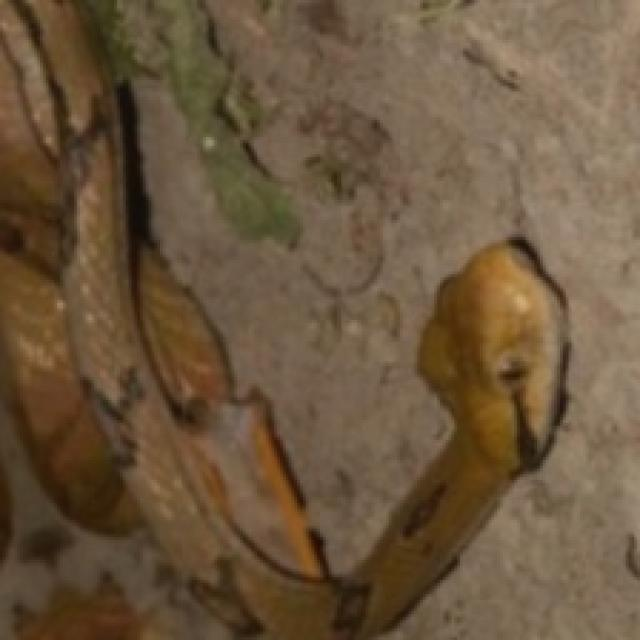dog-toothed cat snake: (0, 0, 566, 637)
